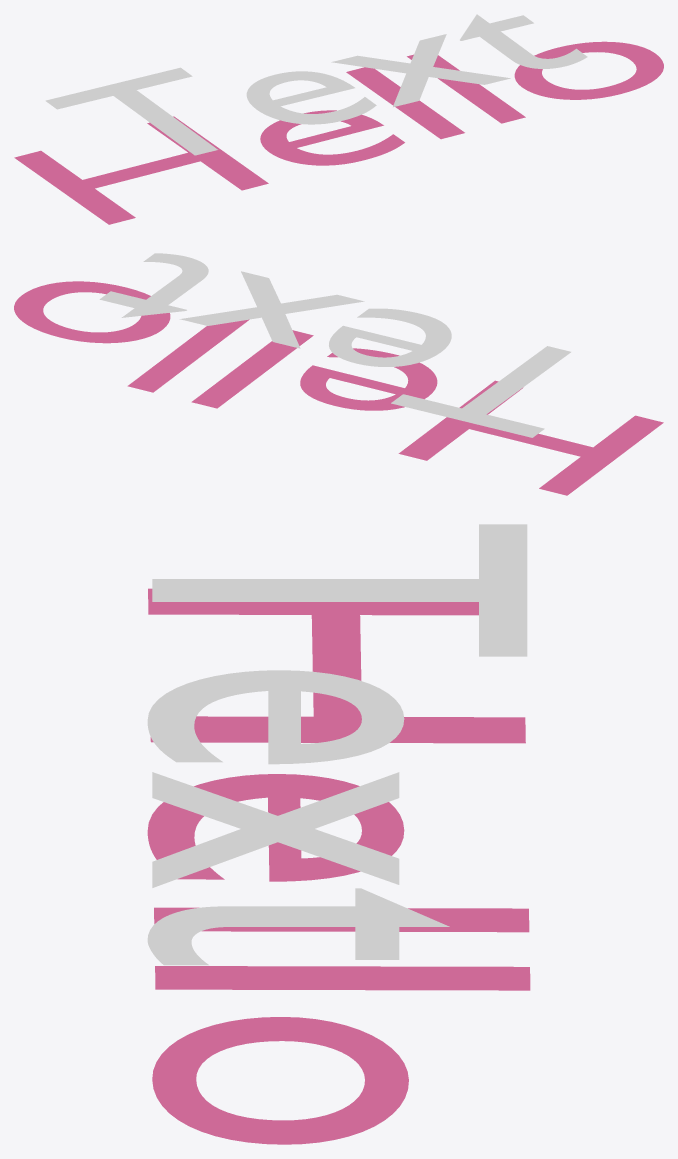
3 renders of one model, top to bottom at view 1: azimuth 30°, elevation 25°; view 2: azimuth 150°, elevation 25°; view 3: azimuth 270°, elevation 25°, orthographic. The views are drawn at different scales.
Visible parts, largest first — view 1: Text.001, Text; view 2: Text.001, Text; view 3: Text.001, Text.
Boxes of the visible parts, x1,y1,x2,y2 form: Text.001: (14,41,663,224); Text: (45,14,587,155); Text.001: (14,281,663,495); Text: (99,253,570,437); Text.001: (147,588,530,1144); Text: (147,524,527,965).
Size of the model in its own units: 2.44 by 0.1937 by 0.6965.
